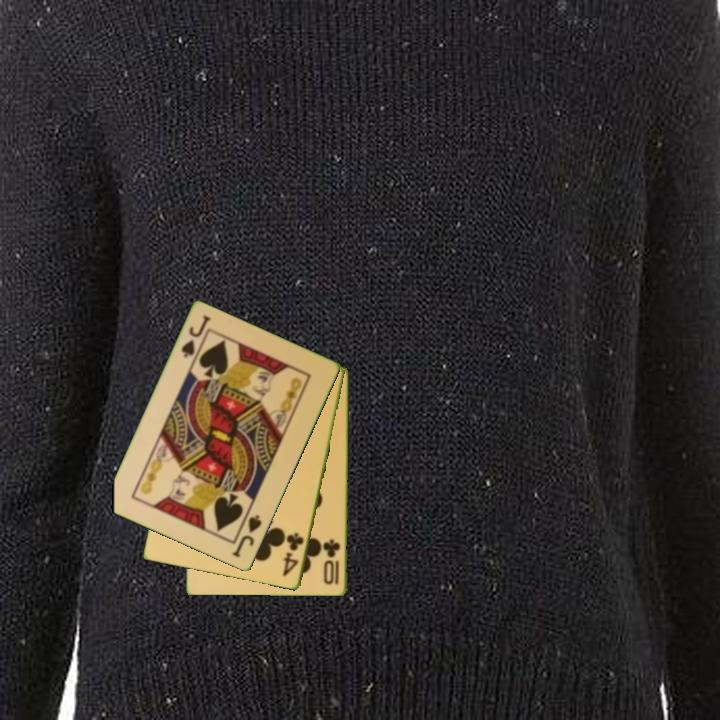10c: (321, 536, 343, 588)
4c: (279, 530, 307, 579)
Js: (229, 512, 265, 561), (178, 312, 214, 361)
